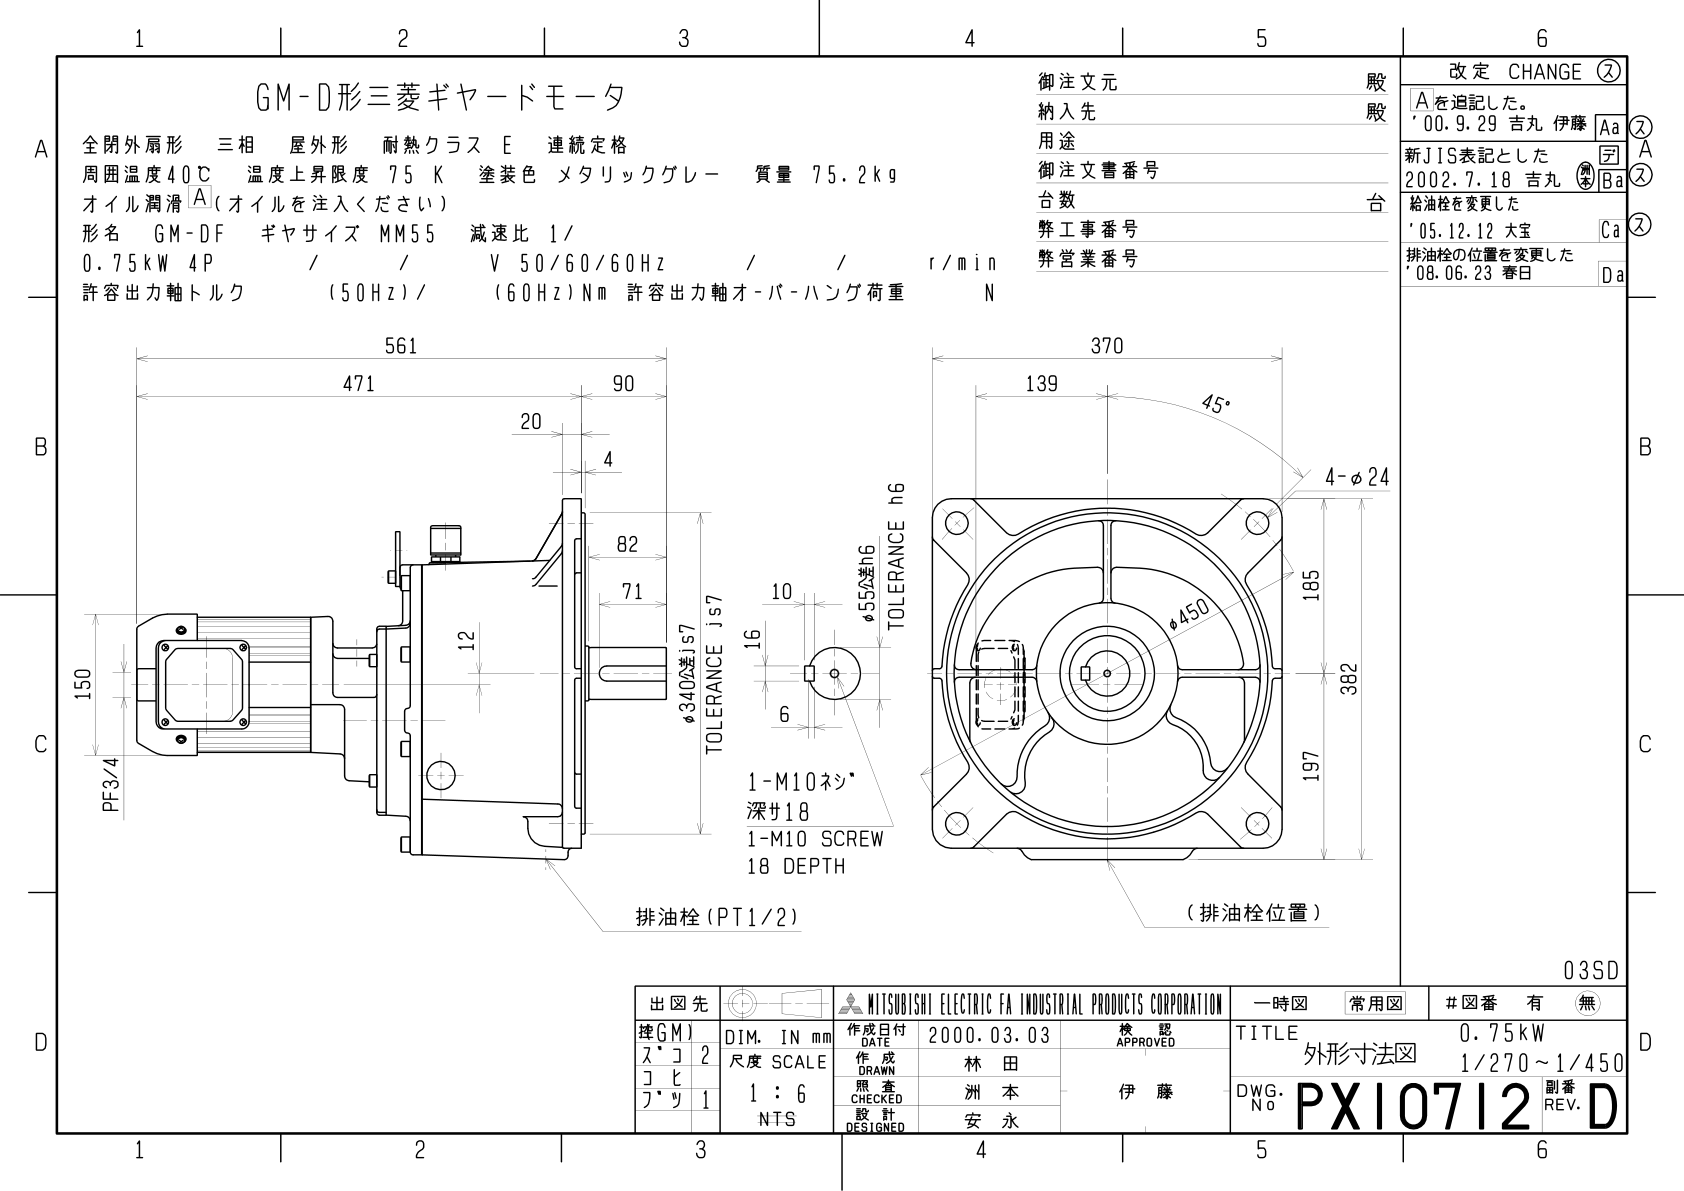GM_D_屋外＿三相_フランジ: (63, 324, 1401, 944)
